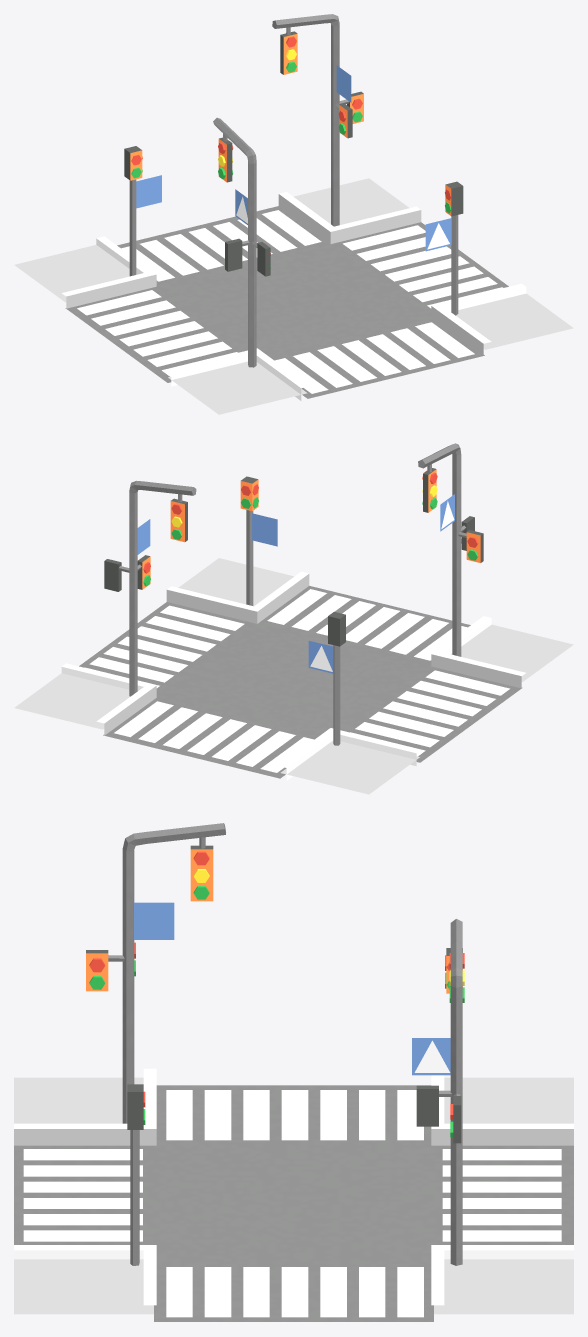
The model's file is road_tile_1x1_4.glb.
3 views of the same model, one above another, from view 1: azimuth 30°, elevation 25°; view 2: azimuth 150°, elevation 25°; view 3: azimuth 270°, elevation 25° (orthographic). The views are drawn at different scales.
Parts seen in each view (by area): view 1: road_tile_1x1_4(Clone); view 2: road_tile_1x1_4(Clone); view 3: road_tile_1x1_4(Clone).
Boxes of the visible parts, left/top/right/bottom form: road_tile_1x1_4(Clone): left=14, top=14, right=573, bottom=414; road_tile_1x1_4(Clone): left=14, top=443, right=573, bottom=794; road_tile_1x1_4(Clone): left=14, top=823, right=573, bottom=1321.
Size of the model in its own units: 8 by 4.94 by 8.
Materials: 1 (1 with a texture image).
